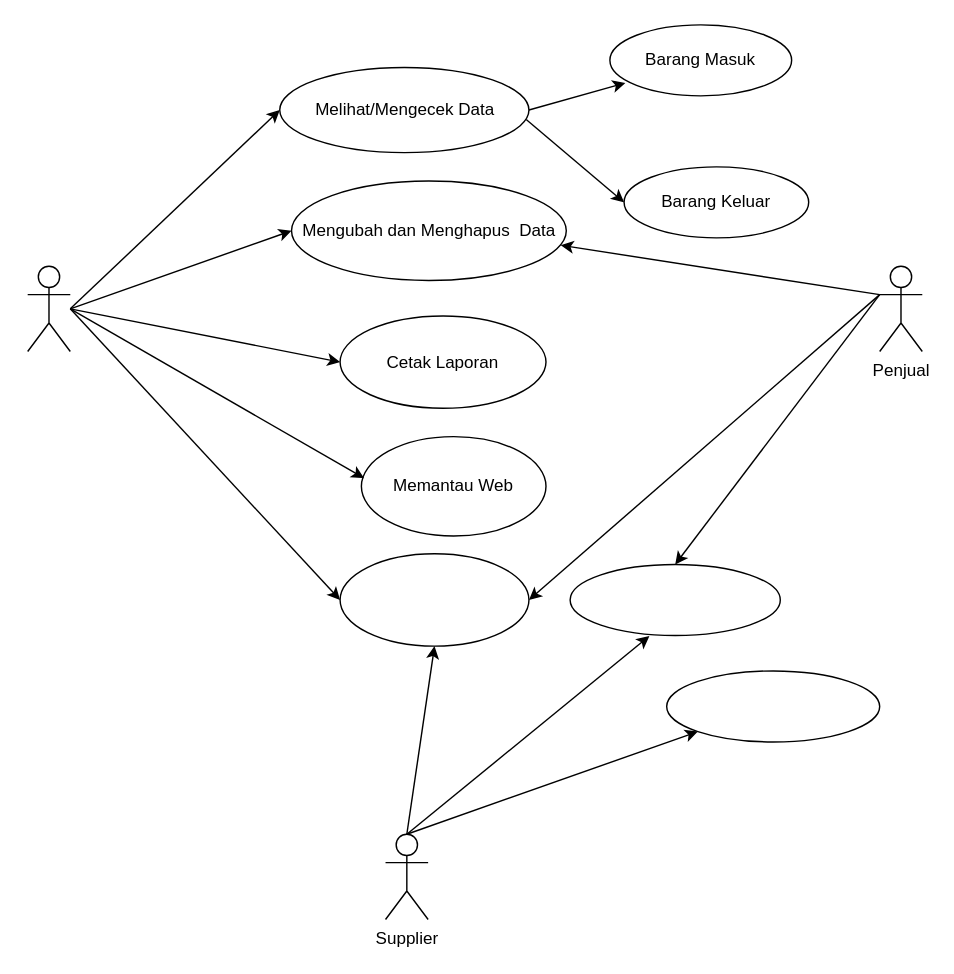
The diagram is 954 pixels wide and 974 high, and some of its shapes have lost their labels. Here are the shapes that lost their labels. From the top down, the centre of each, then its label:
pixel 48 308: Admin
pixel 434 599: Login
pixel 674 599: Menambah Data
pixel 772 706: Menghapus Data
